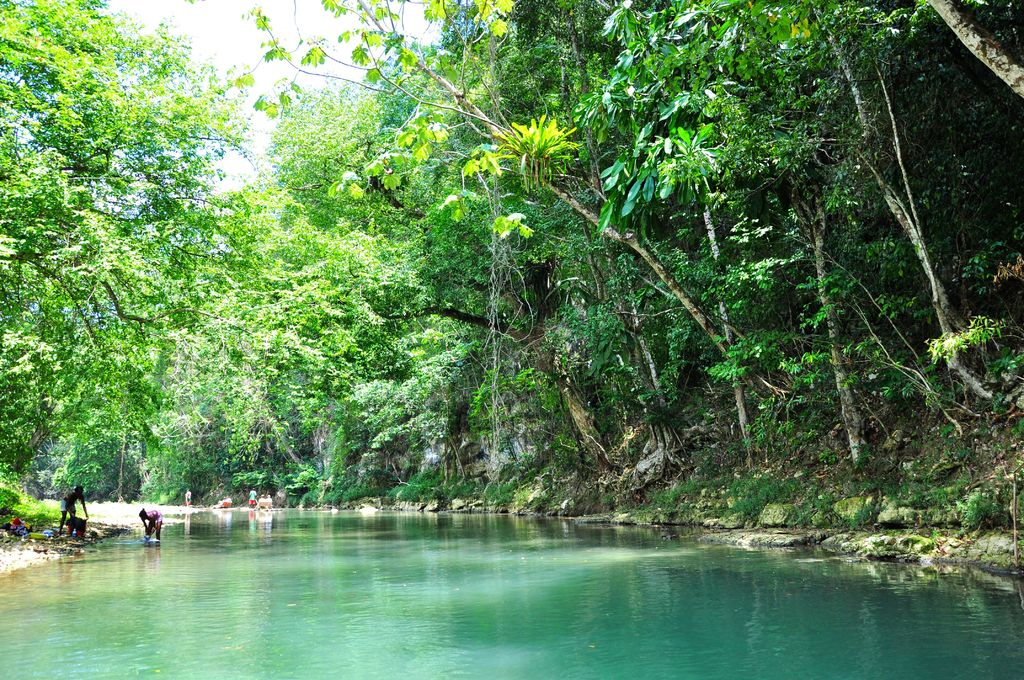Tree: (56, 0, 1023, 500), (0, 0, 255, 469)
